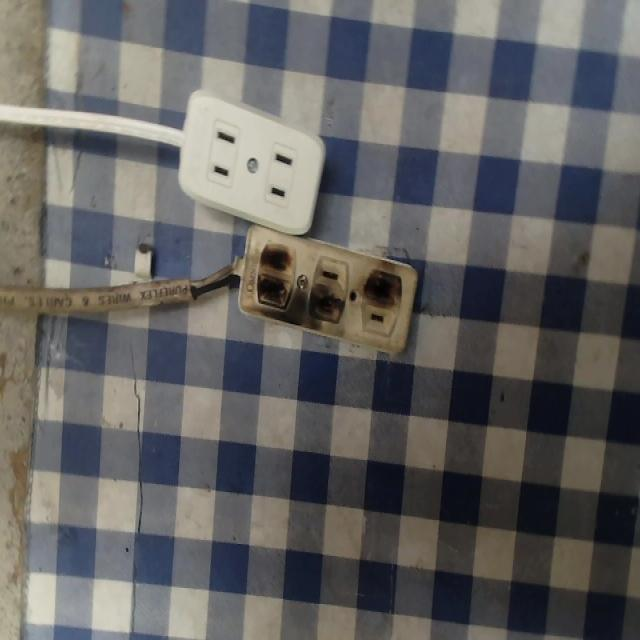-: (361, 257, 416, 316), (252, 240, 293, 312), (303, 282, 343, 342)
